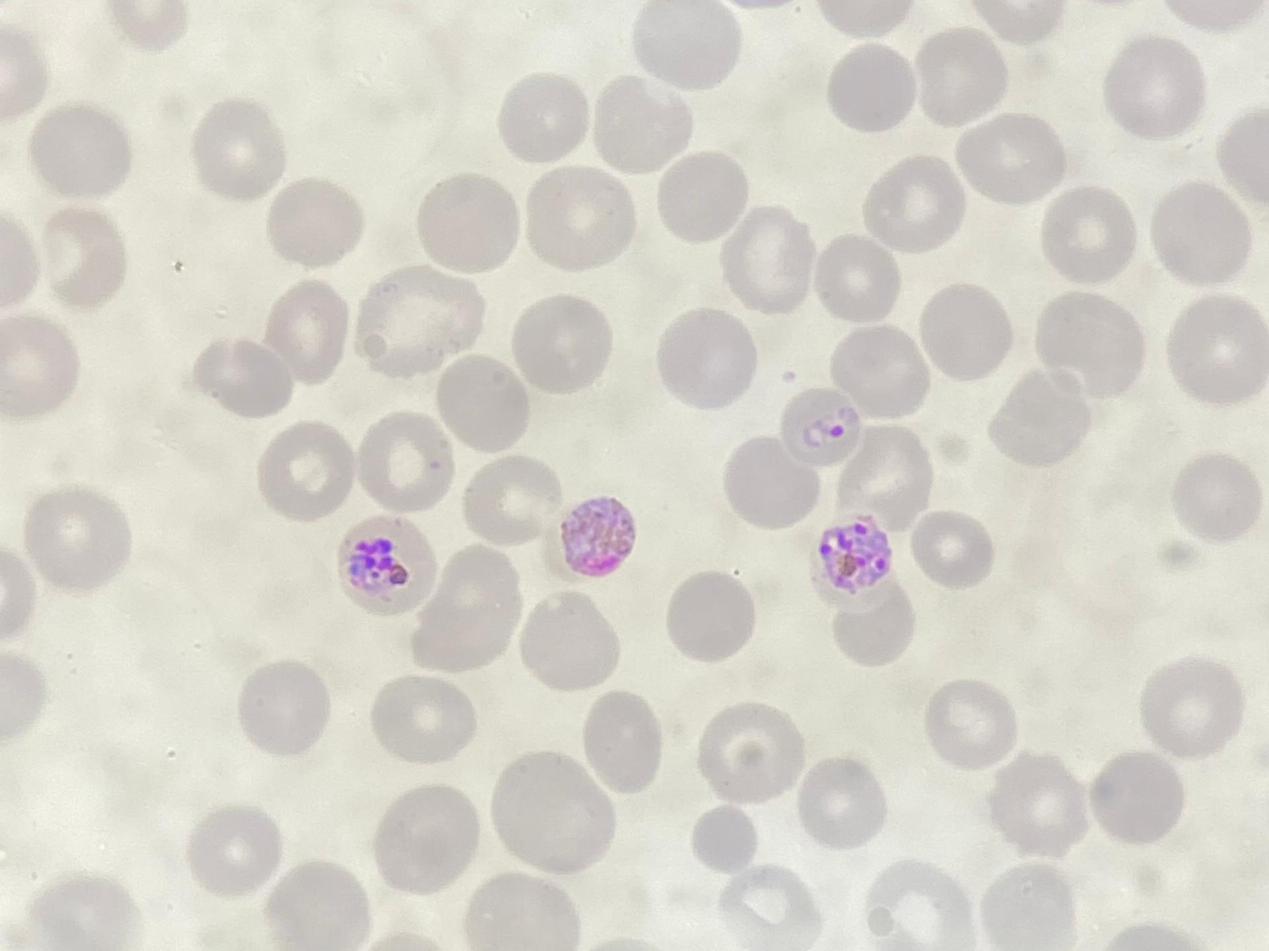Infected: (831, 337, 933, 436), (371, 336, 461, 436), (404, 482, 488, 561), (633, 372, 710, 451)
Uninfected: (652, 77, 779, 198), (784, 574, 912, 684), (747, 280, 856, 400), (788, 58, 897, 167), (1137, 353, 1241, 467), (123, 553, 231, 658), (633, 680, 741, 784), (0, 545, 103, 654), (463, 146, 572, 248), (15, 665, 118, 770), (61, 810, 163, 913), (24, 192, 128, 293), (177, 480, 282, 580), (179, 93, 281, 195), (647, 258, 749, 360), (510, 541, 611, 641), (749, 676, 851, 775), (574, 775, 673, 874), (814, 437, 913, 535), (656, 556, 755, 654), (303, 700, 404, 796), (202, 745, 307, 837), (296, 1, 403, 91), (336, 418, 431, 519), (526, 860, 633, 949), (736, 496, 833, 594), (258, 822, 354, 921), (132, 667, 229, 764), (1135, 750, 1235, 844), (254, 568, 351, 664), (338, 533, 438, 626), (453, 638, 545, 738), (83, 104, 180, 198), (447, 420, 544, 514), (445, 1, 551, 87), (981, 749, 1074, 847), (919, 426, 1009, 527), (899, 1, 1003, 87), (518, 707, 614, 799), (6, 405, 98, 499), (688, 1, 801, 77), (986, 53, 1081, 143), (710, 404, 806, 493), (940, 192, 1028, 289), (976, 525, 1074, 612), (1141, 642, 1227, 740), (381, 100, 473, 191), (677, 785, 769, 876), (352, 818, 444, 909), (250, 179, 344, 268), (921, 562, 1003, 664), (905, 683, 1001, 770), (193, 1, 288, 88), (793, 184, 894, 265), (1188, 530, 1269, 631), (512, 289, 602, 379), (606, 157, 687, 256), (1131, 1, 1237, 74), (367, 625, 455, 712), (353, 282, 438, 362), (274, 359, 358, 437), (510, 75, 578, 145)
